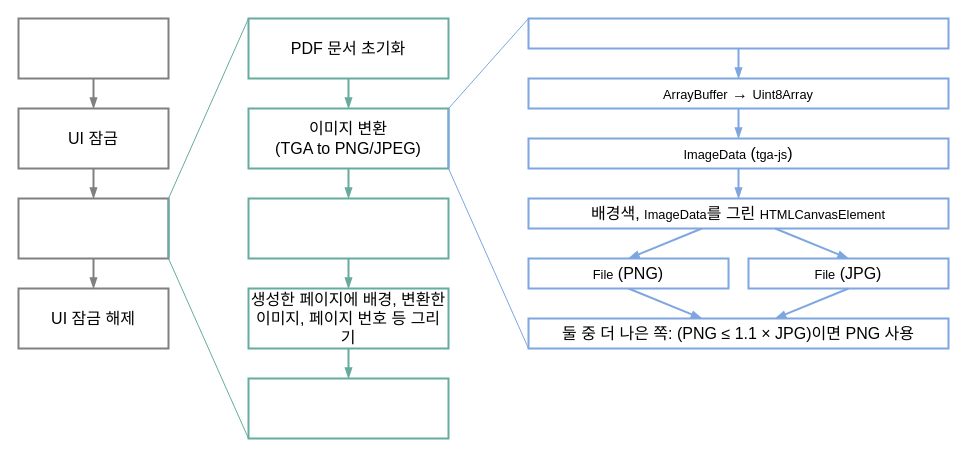
Image size: 966x457. Some labels were removed from this diagram. Here are the shapes that lost their labels. From the top down, the centre of each, then its label:
At point 93,48: "PDF 생성 명령".
At point 738,33: "File (TGA)".
At point 93,228: "File[] → PDF 파일 ( jspdf )".
At point 348,228: "PDF 문서에 새 페이지 만들기".
At point 348,408: "PDF 파일 저장(다운로드)".
